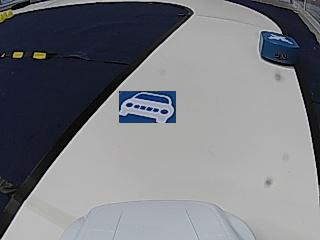prop: (259, 30, 298, 66)
